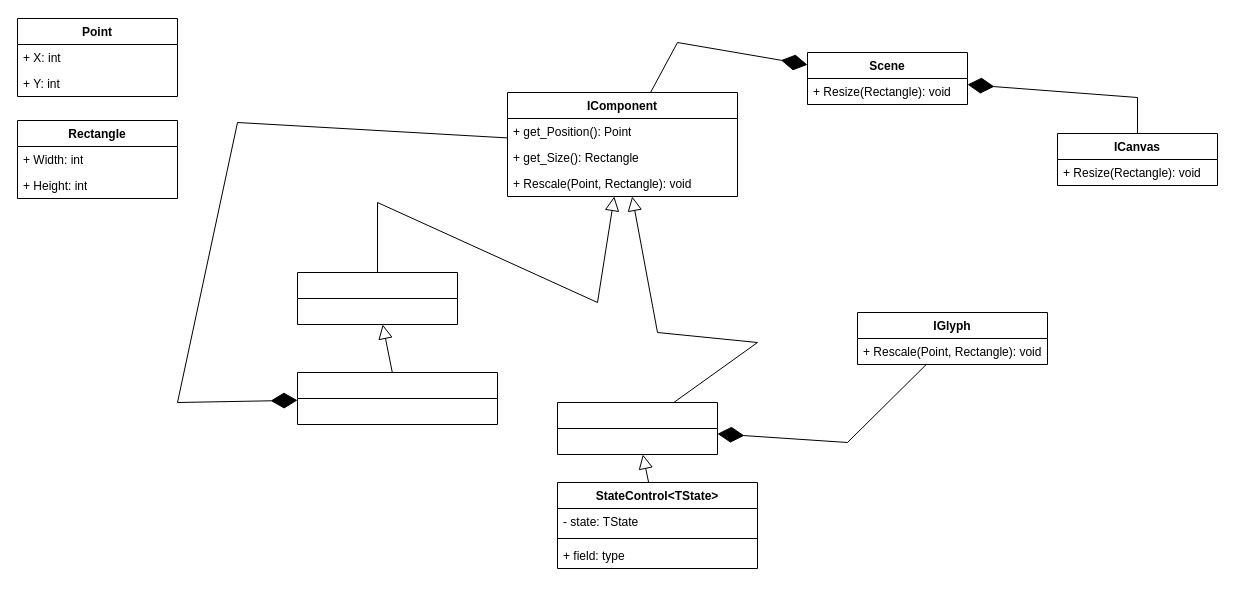
The diagram is 1235 pixels wide and 589 high, and some of its shapes have lost their labels. Here are the shapes that lost their labels. From the top down, the centre of each, then its label:
At (377,298): "IPanel".
At (397,398): "StackPanel<VDirection>".
At (637,428): "IControl".
